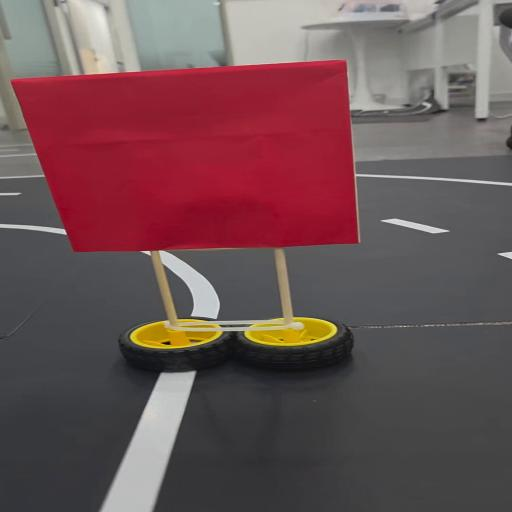Sign_A: (8, 60, 371, 374)
